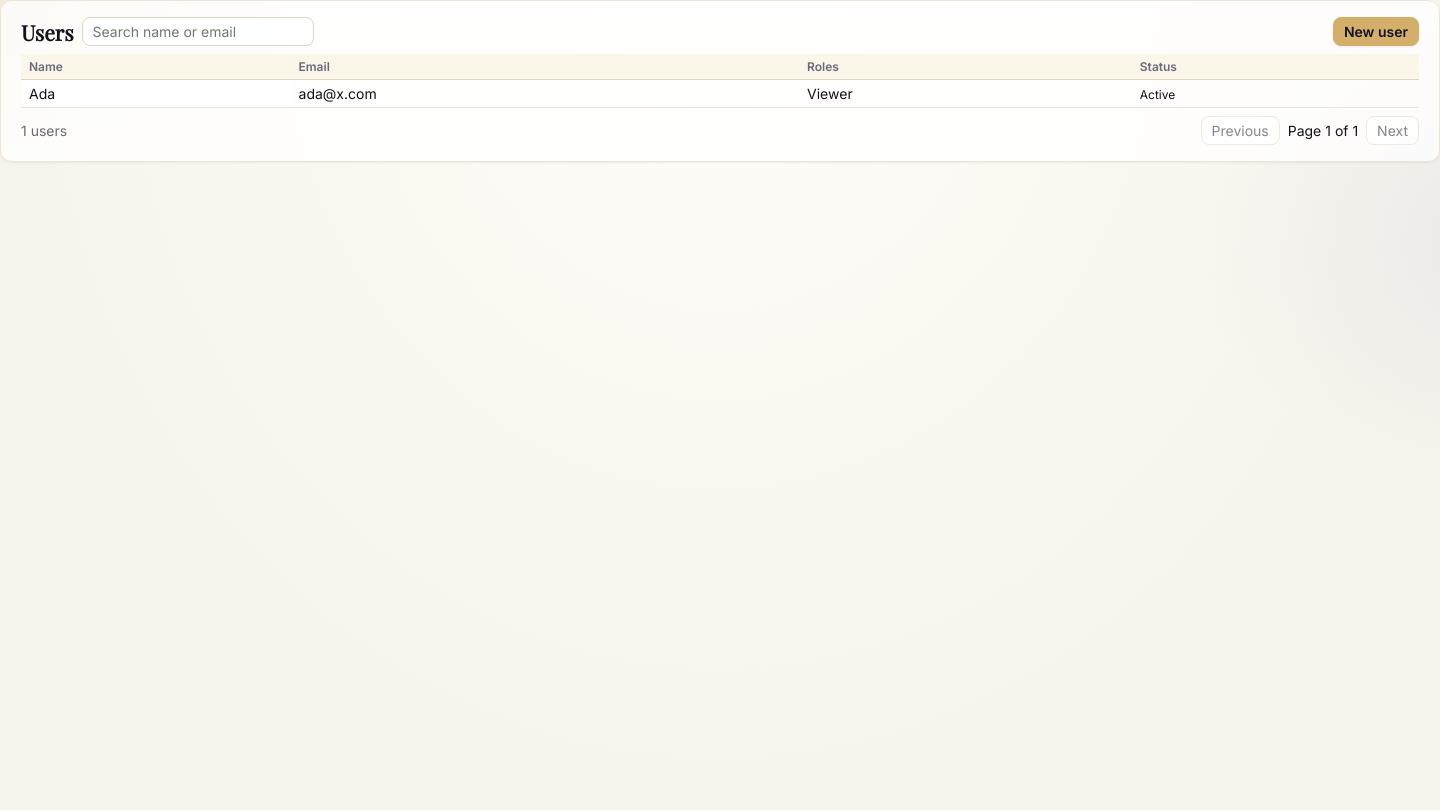
Users page › assigns a role and shows a server refusal (e.g. last administrator)
What coordinates should you click on to do the following:
click the text "ada@x.com"
I would click on:
 (545, 94)
Its box is [290,80,799,108].
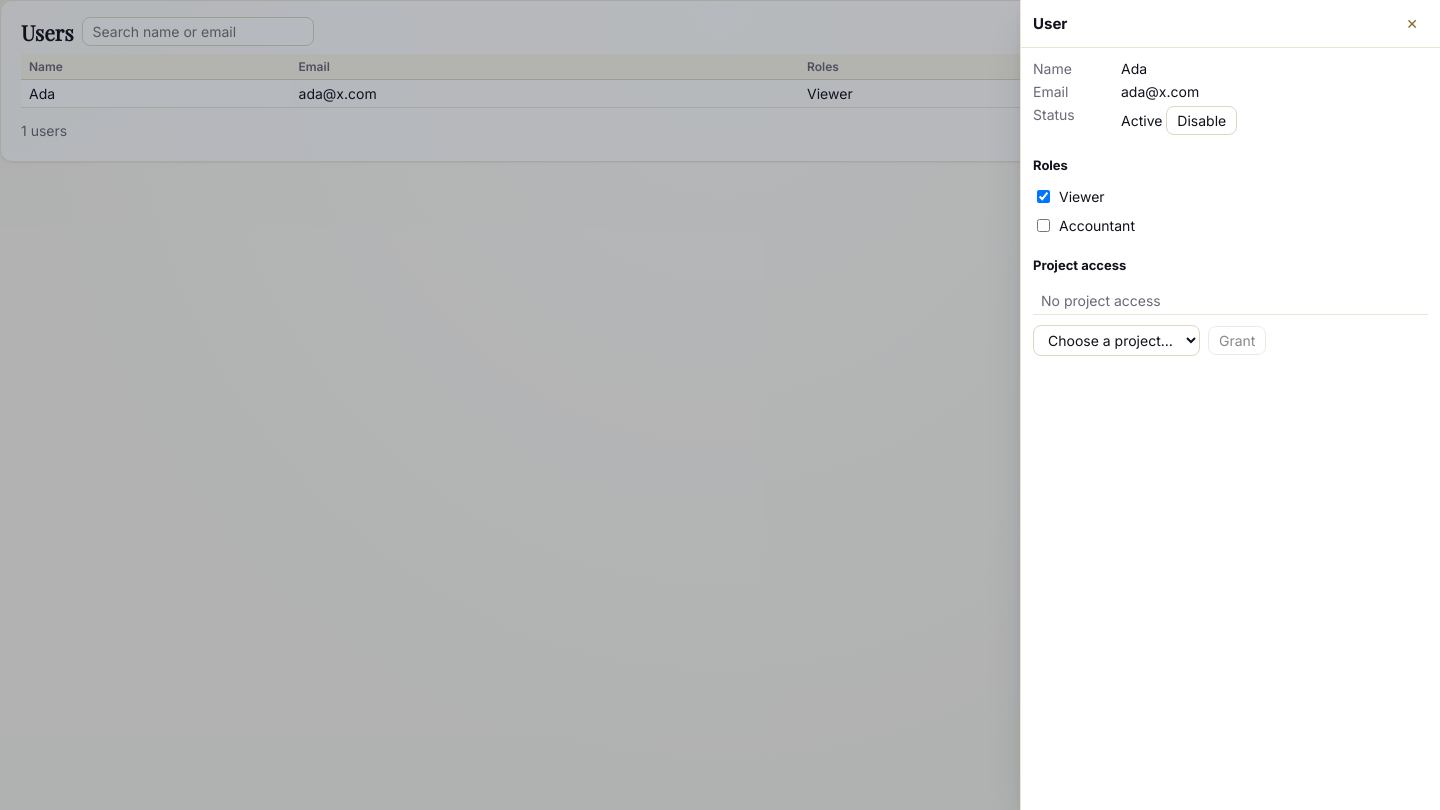
What coordinates should you click on to do the following:
click the checkbox labelled "Accountant"
I would click on:
 (1044, 226)
Its box is [1037,219,1050,232].
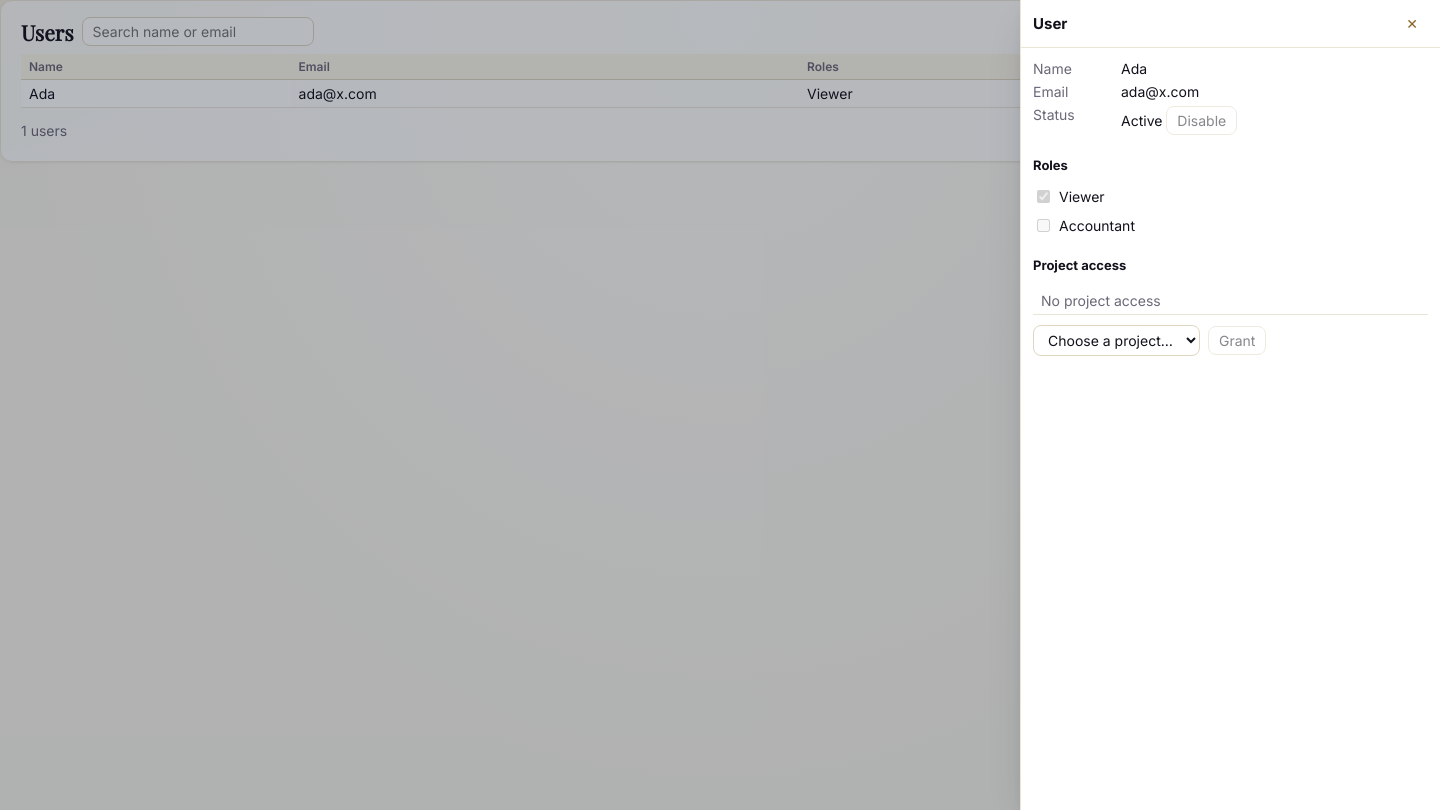
What coordinates should you click on to do the following:
click the checkbox labelled "Viewer"
I would click on:
 (1044, 196)
Its box is [1037,190,1050,203].
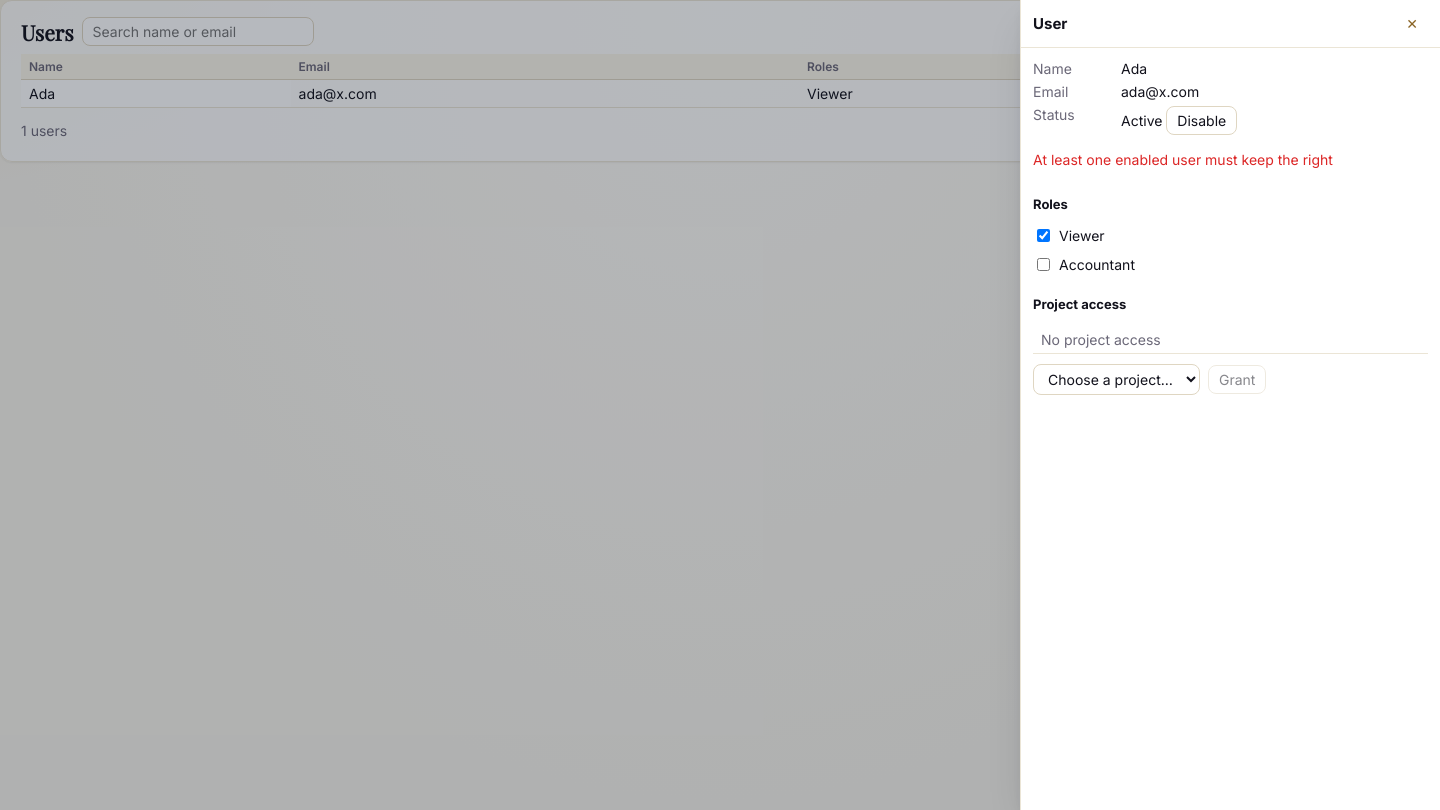
expect the message reads "At least one enabled user must keep the right": met, box [1033,151,1333,168]
